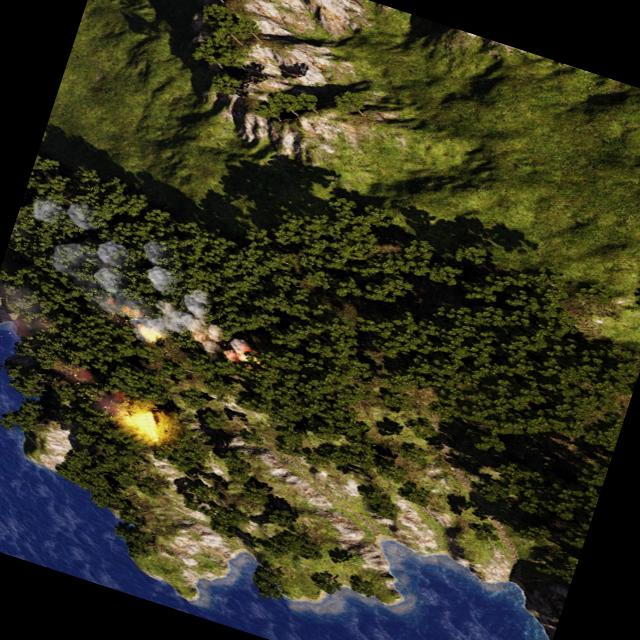fire: (120, 402, 170, 444), (225, 337, 261, 368), (132, 322, 165, 346)
smoke: (0, 187, 278, 376)
